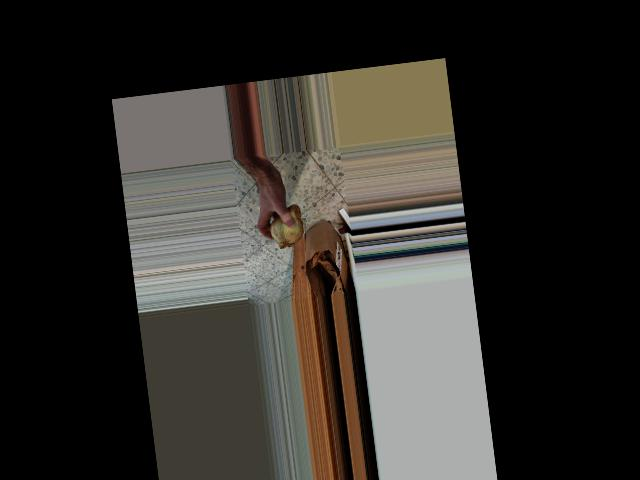onion: (263, 201, 309, 251)
